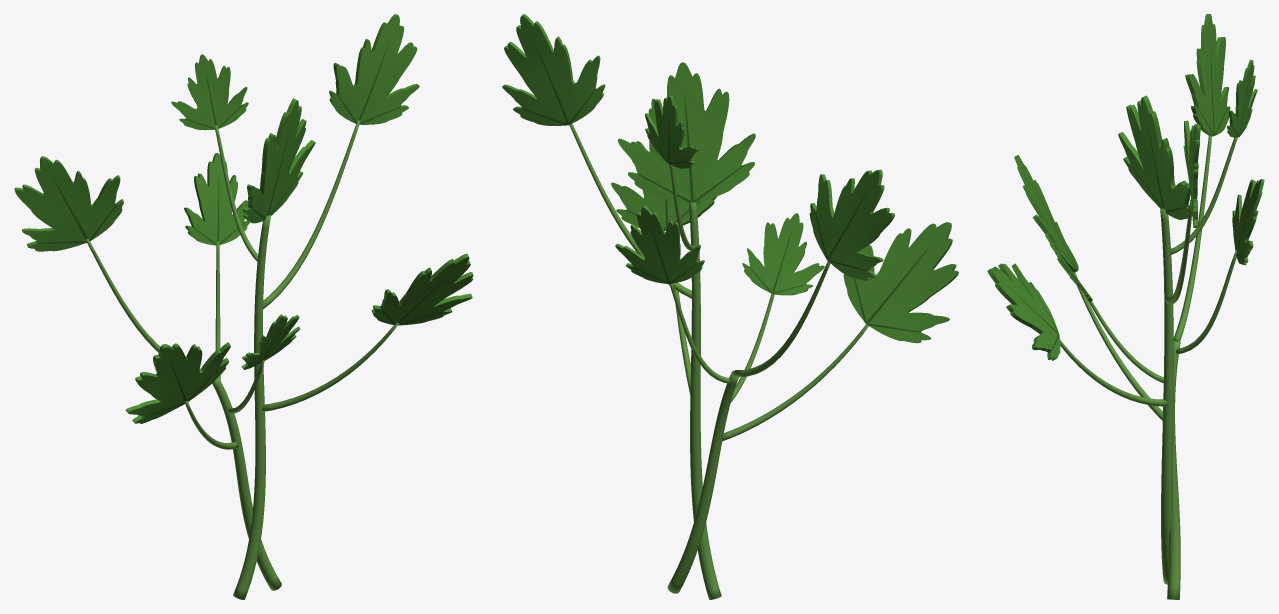
Rendered from mata de cilantro.fbx.
3 views of the same model, side by side, from view 1: azimuth 30°, elevation 25°; view 2: azimuth 150°, elevation 25°; view 3: azimuth 270°, elevation 25° (orthographic). The views are drawn at different scales.
Visible parts, largest first — view 1: Mata_Cilantro_Hojas, Mata_Cilantro_Tallos; view 2: Mata_Cilantro_Hojas, Mata_Cilantro_Tallos; view 3: Mata_Cilantro_Hojas, Mata_Cilantro_Tallos.
Part boxes in pixels (x1,y1,x2,y2): Mata_Cilantro_Hojas: (14,14,473,423); Mata_Cilantro_Tallos: (86,120,399,599); Mata_Cilantro_Hojas: (502,14,958,343); Mata_Cilantro_Tallos: (569,123,868,599); Mata_Cilantro_Hojas: (987,14,1264,360); Mata_Cilantro_Tallos: (1060,136,1237,599).
Size of the model in its own units: 29.25 by 38.12 by 17.64.
2 materials, 2 textured.
